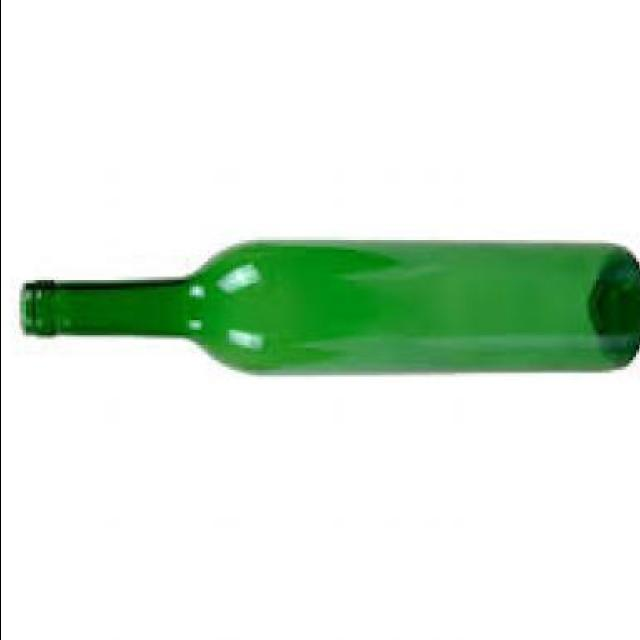kaca: (15, 240, 640, 378)
